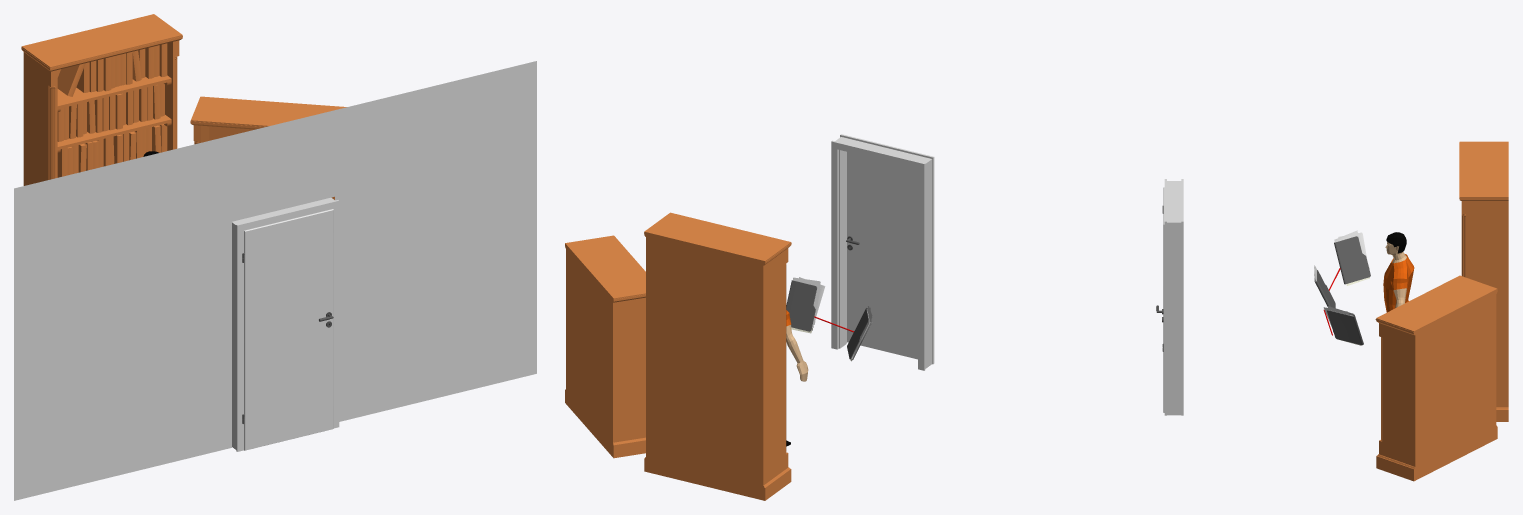
3 views of the same model, side by side, from view 1: azimuth 30°, elevation 25°; view 2: azimuth 150°, elevation 25°; view 3: azimuth 270°, elevation 25° (orthographic). The views are drawn at different scales.
Visible parts, largest first — view 1: Plane, Plane.001, Victorian Bookcase Tall, Plane.002, Victorian Bookcase Small, Victorian Bookcase Tall Books 6, Victorian Bookcase Tall Books 7, Victorian Bookcase Tall Books 5, Victorian Bookcase Tall Corner; view 2: Victorian Bookcase Tall, Victorian Bookcase Small, Plane.001, Plane.002, Folder_1Shape; view 3: Victorian Bookcase Small, Victorian Bookcase Tall, Plane.002, Human full, Folder_1Shape.001, Folder_1Shape.002, Plane.001.
Part boxes in pixels (x1,y1,x2,y2): Plane: (14, 61, 536, 500); Plane.001: (242, 209, 333, 450); Victorian Bookcase Tall: (21, 14, 182, 185); Plane.002: (232, 197, 339, 451); Victorian Bookcase Small: (190, 96, 346, 199); Victorian Bookcase Tall Books 6: (57, 83, 164, 141); Victorian Bookcase Tall Books 7: (57, 43, 167, 96); Victorian Bookcase Tall Books 5: (57, 124, 167, 177); Victorian Bookcase Tall Corner: (49, 56, 177, 179); Victorian Bookcase Tall: (644, 212, 791, 500); Victorian Bookcase Small: (565, 235, 645, 458); Plane.001: (847, 152, 917, 359); Plane.002: (831, 134, 934, 370); Folder_1Shape: (786, 280, 816, 331); Victorian Bookcase Small: (1375, 275, 1497, 481); Victorian Bookcase Tall: (1459, 141, 1508, 421); Plane.002: (1162, 179, 1183, 415); Human full: (1383, 232, 1414, 312); Folder_1Shape.001: (1334, 236, 1370, 284); Folder_1Shape.002: (1327, 310, 1363, 345); Plane.001: (1162, 187, 1164, 412).
Size of the model in its own units: 7.22 by 4.13 by 4.92.
14 materials, 1 textured.
